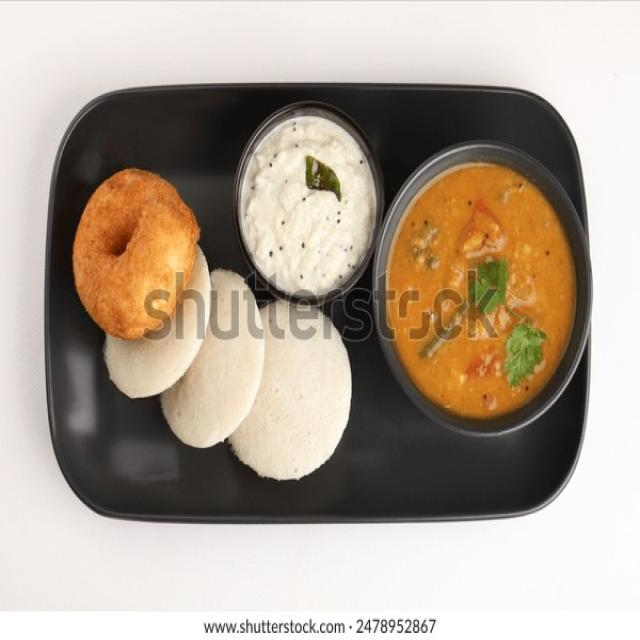IDLI: (228, 301, 351, 480), (161, 271, 263, 447), (103, 246, 210, 398)
MEDU VADA: (73, 168, 199, 339)
